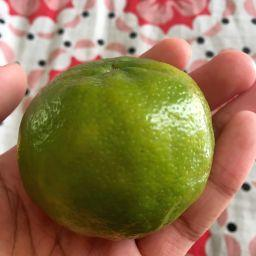Unripe: (18, 55, 214, 238)
